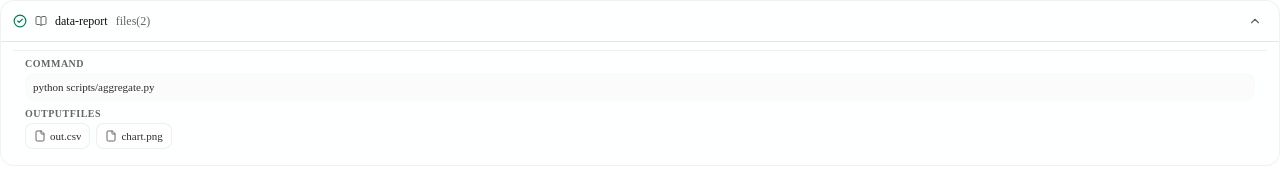
Test case: SkillExecutionToolUI render › 펼치면 커맨드와 파일 링크(API 경로)를 보여준다
Expected: the link "out.csv" is shown, [25, 123, 90, 149]
Expected: the text "python scripts/aggregate.py" is shown, [25, 73, 1255, 101]
Note: 접었다 펴도 유지.
Click the text "data-report".
click(81, 21)  # box [55, 13, 108, 29]
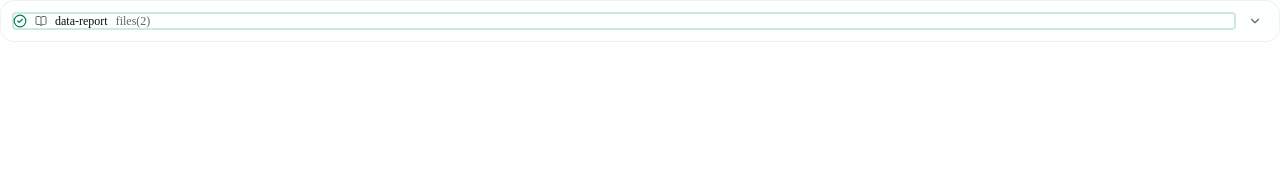
Expected: the text "python scripts/aggregate.py" is gone
